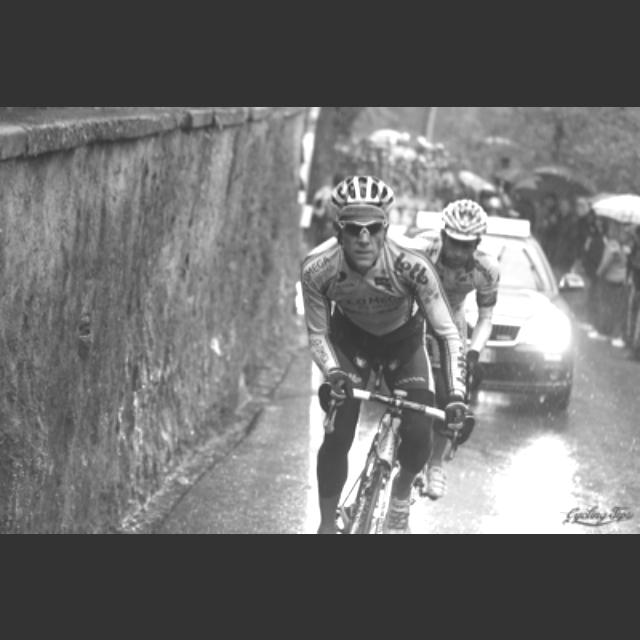With Helmet: (323, 168, 401, 272), (429, 191, 503, 281)
